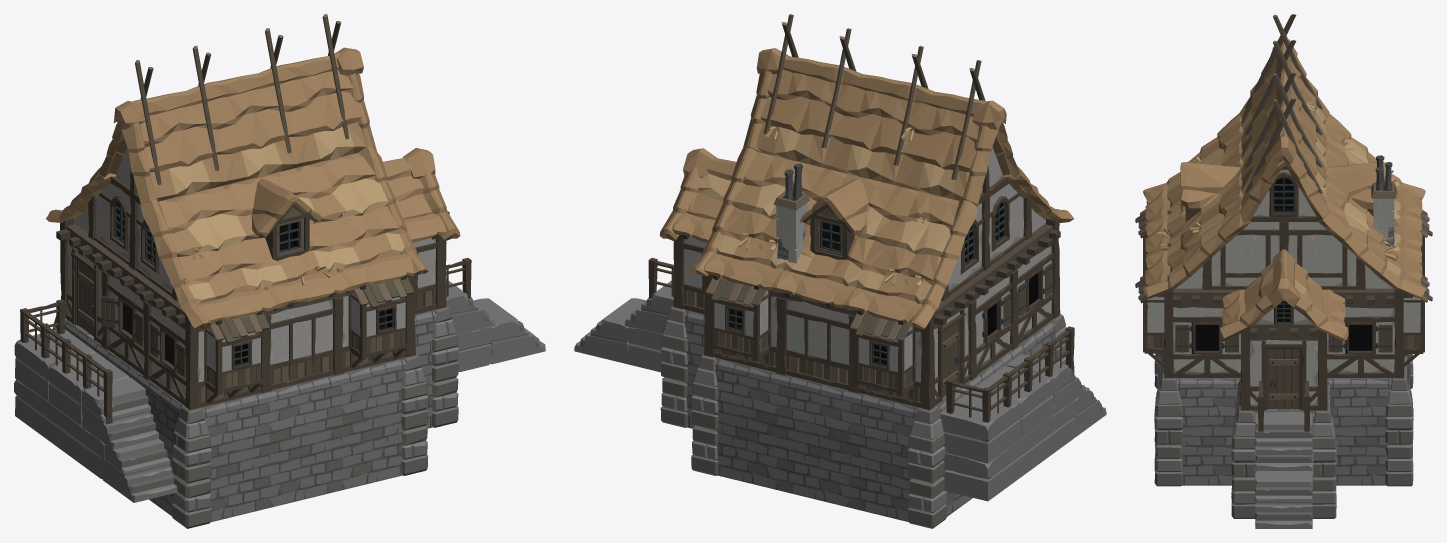
Rendered from kingdom_SM_Bld_Preset_House_04_Optimized.gltf.
The picture shows the model from 3 angles, left to right: view 1: azimuth 30°, elevation 25°; view 2: azimuth 150°, elevation 25°; view 3: azimuth 270°, elevation 25°; orthographic projection. The views are drawn at different scales.
Parts seen in each view (by area): view 1: SM_Bld_Preset_House_04_Optimized; view 2: SM_Bld_Preset_House_04_Optimized; view 3: SM_Bld_Preset_House_04_Optimized.
Boxes of the visible parts, x1,y1,x2,y2 form: SM_Bld_Preset_House_04_Optimized: [14, 14, 545, 528]; SM_Bld_Preset_House_04_Optimized: [574, 14, 1106, 528]; SM_Bld_Preset_House_04_Optimized: [1135, 14, 1432, 528].
Size of the model in its own units: 15.83 by 13.5 by 9.69.
1 material, 1 textured.
